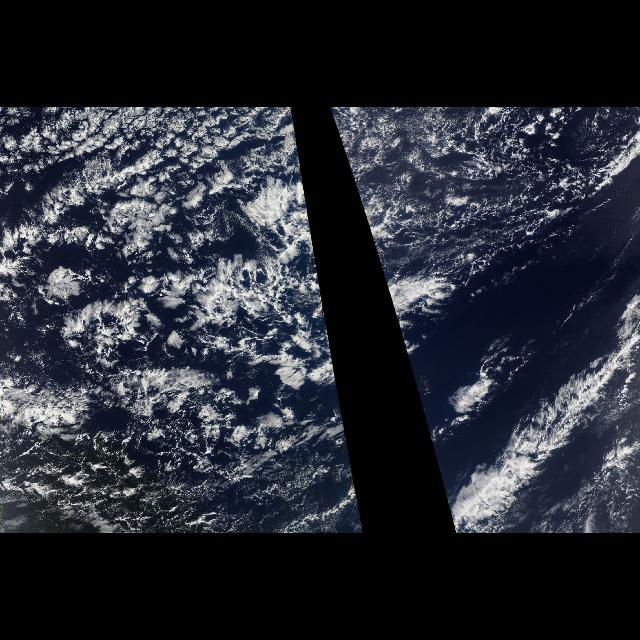Flower: (22, 216, 248, 390)
Gravel: (1, 401, 317, 534), (385, 107, 591, 273)
